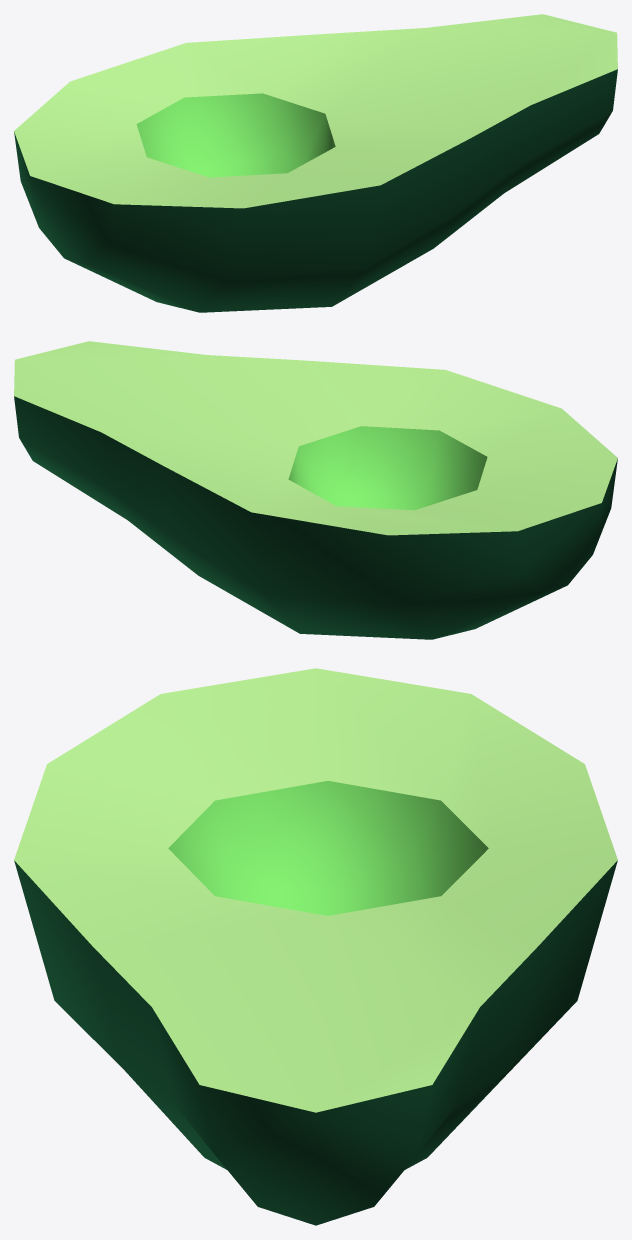
The model's file is Avocado.fbx.
3 renders of one model, top to bottom at view 1: azimuth 30°, elevation 25°; view 2: azimuth 150°, elevation 25°; view 3: azimuth 270°, elevation 25°, orthographic. The views are drawn at different scales.
Parts seen in each view (by area): view 1: Avocado; view 2: Avocado; view 3: Avocado.
Part boxes in pixels (x1=…): Avocado: x1=14, y1=14, x2=617, y2=312; Avocado: x1=14, y1=341, x2=617, y2=639; Avocado: x1=14, y1=668, x2=617, y2=1225.
Size of the model in its own units: 190 by 56.15 by 109.
